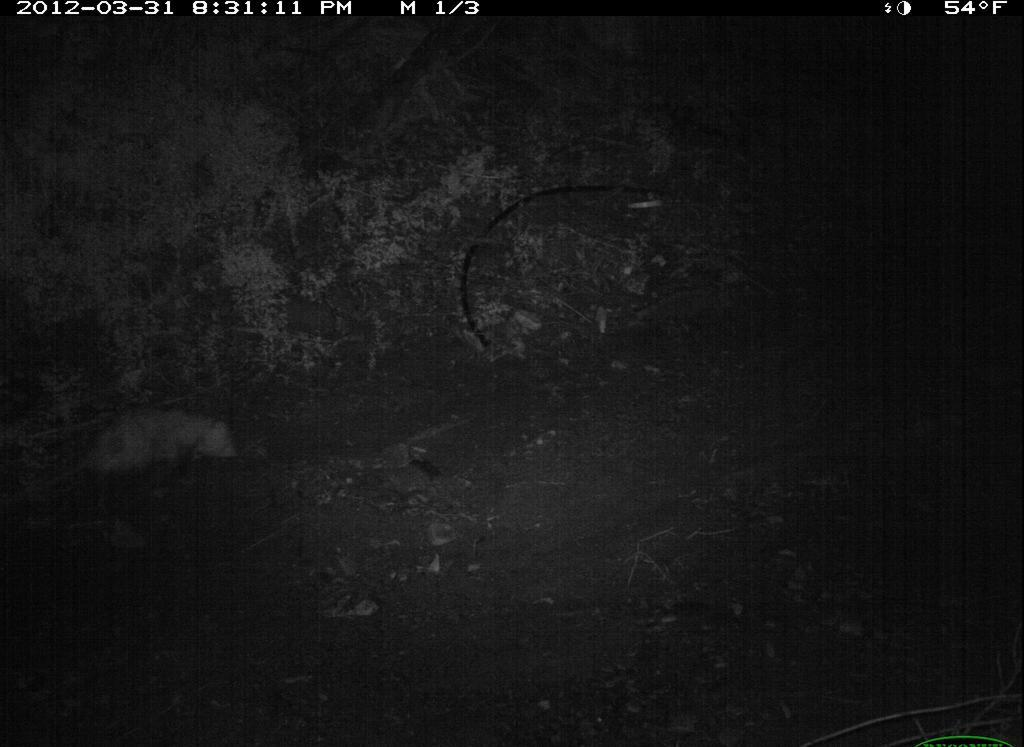opossum: (31, 401, 248, 497)
